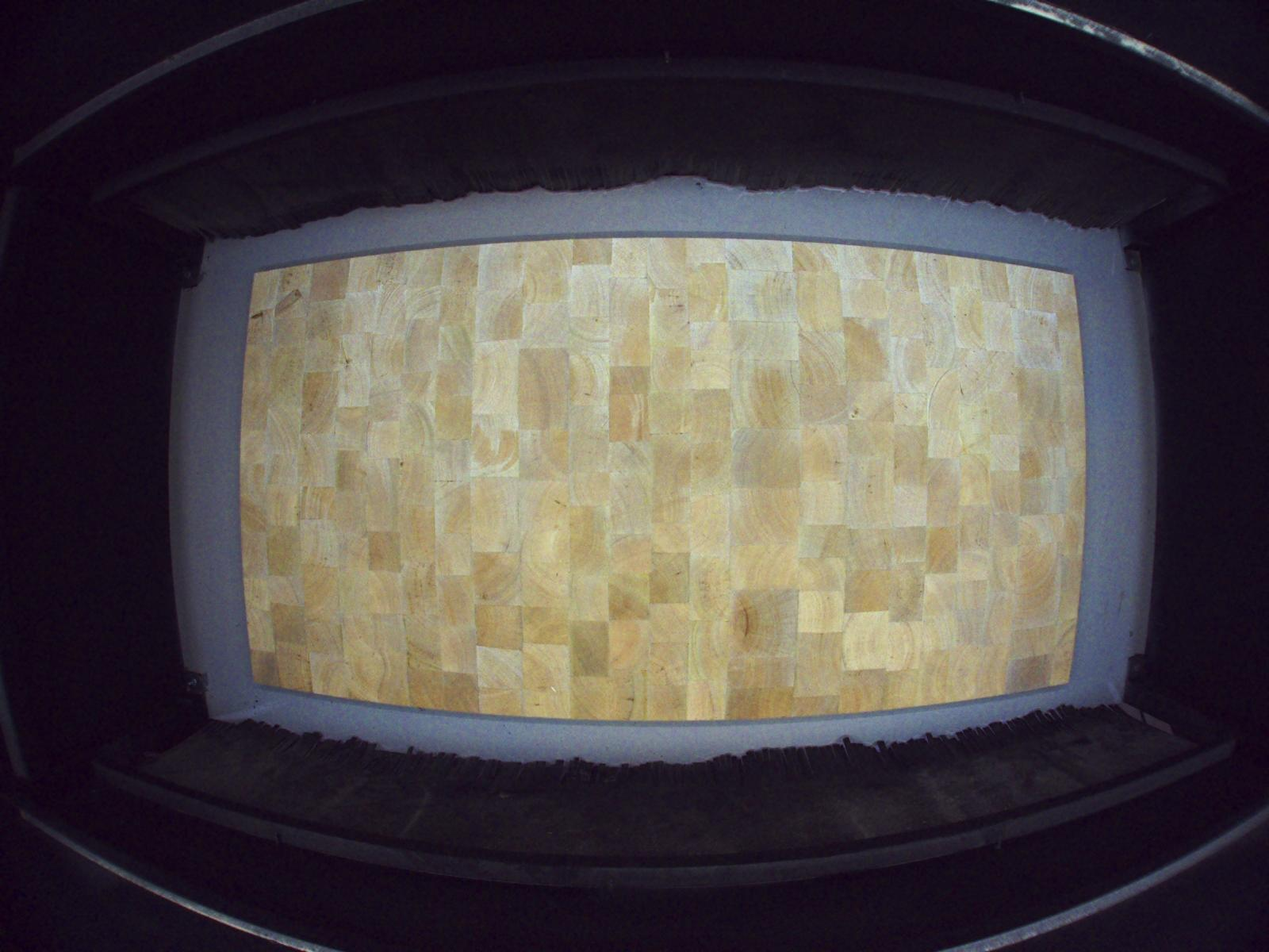sheck_ecuatoriano: (625, 669, 636, 721), (250, 309, 265, 323)
